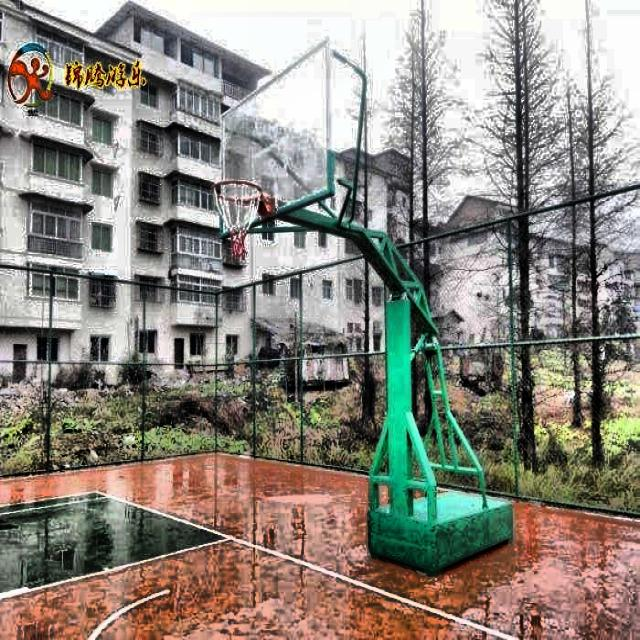rim: (211, 177, 262, 261)
